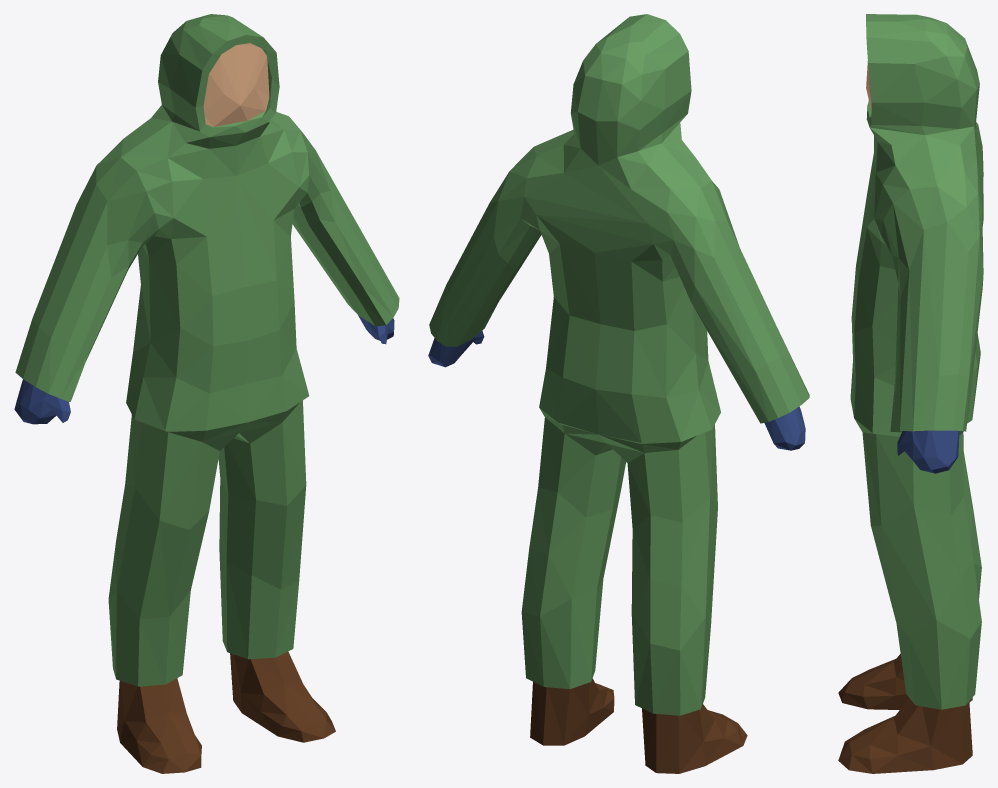
The model's file is player.glb.
3 renders of one model, left to right at view 1: azimuth 30°, elevation 25°; view 2: azimuth 150°, elevation 25°; view 3: azimuth 270°, elevation 25°, orthographic.
Parts seen in each view (by area): view 1: Cube; view 2: Cube; view 3: Cube.
Boxes of the visible parts, x1=… form: Cube: x1=14, y1=14, x2=399, y2=773; Cube: x1=428, y1=14, x2=809, y2=773; Cube: x1=838, y1=14, x2=983, y2=773.
Bounding box in the file's own units: 1.03 × 1.88 × 0.3485.
